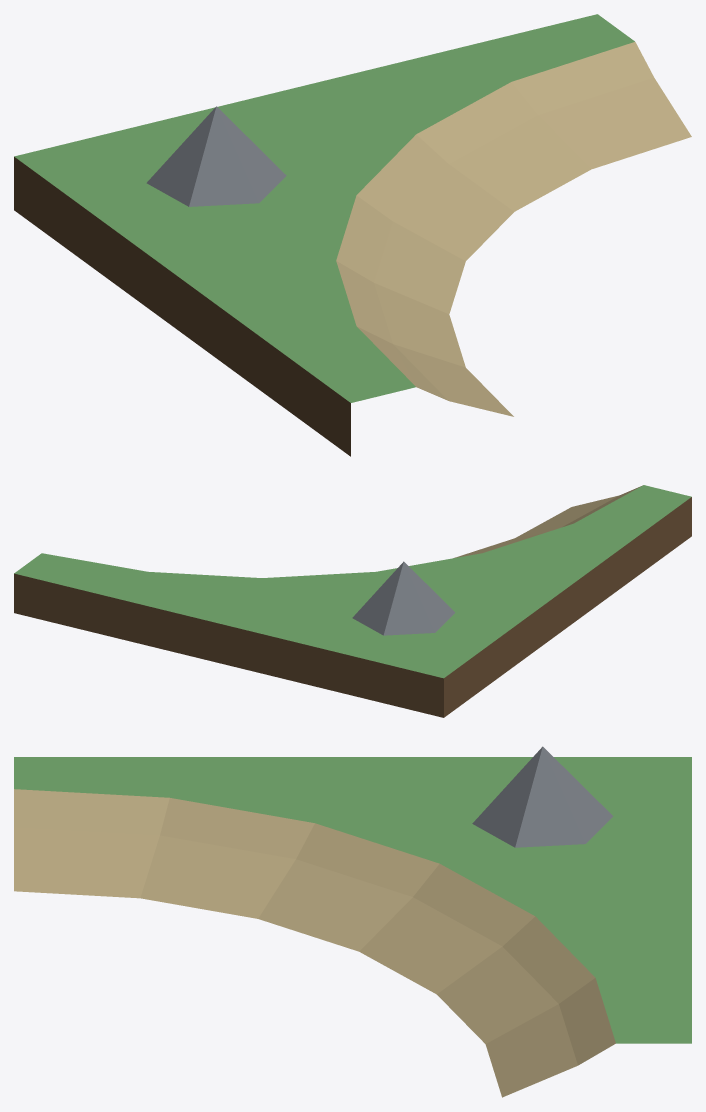
Rendered from pond-outer-b.glb.
The picture shows the model from 3 angles, top to bottom: view 1: azimuth 30°, elevation 25°; view 2: azimuth 150°, elevation 25°; view 3: azimuth 270°, elevation 25°; orthographic projection. The views are drawn at different scales.
Visible parts, largest first — view 1: pond-outer-b; view 2: pond-outer-b; view 3: pond-outer-b.
Part boxes in pixels (box(x1,y1,x2,y2)): pond-outer-b: box(14, 14, 691, 456); pond-outer-b: box(14, 485, 691, 717); pond-outer-b: box(14, 746, 691, 1097).
Size of the model in its own units: 0.25 by 0.052 by 0.25.
